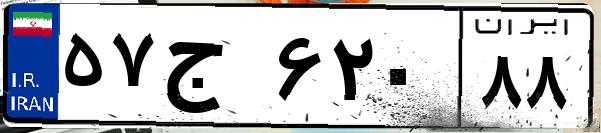0: (385, 28, 445, 110)
2: (330, 28, 385, 110)
5: (57, 26, 110, 100)
6: (270, 28, 330, 110)
7: (110, 28, 158, 98)
8: (475, 38, 525, 113), (525, 38, 570, 115)
ج: (158, 20, 270, 120)
